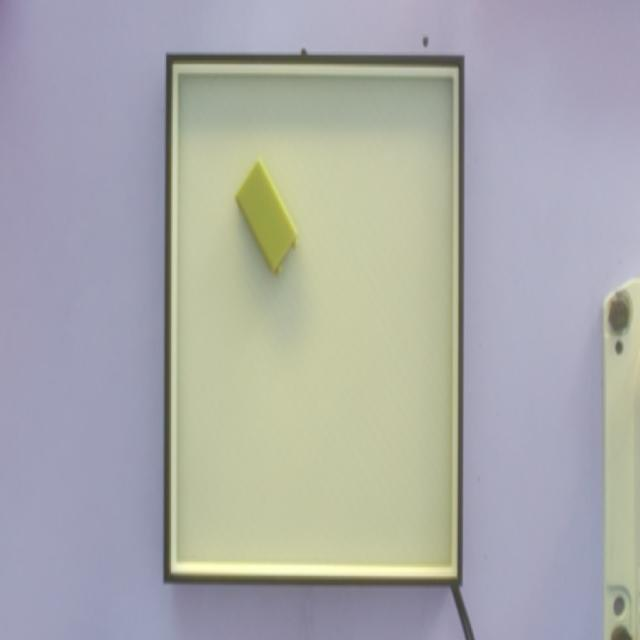bateria: (233, 155, 300, 278)
mesa: (163, 54, 464, 588)
